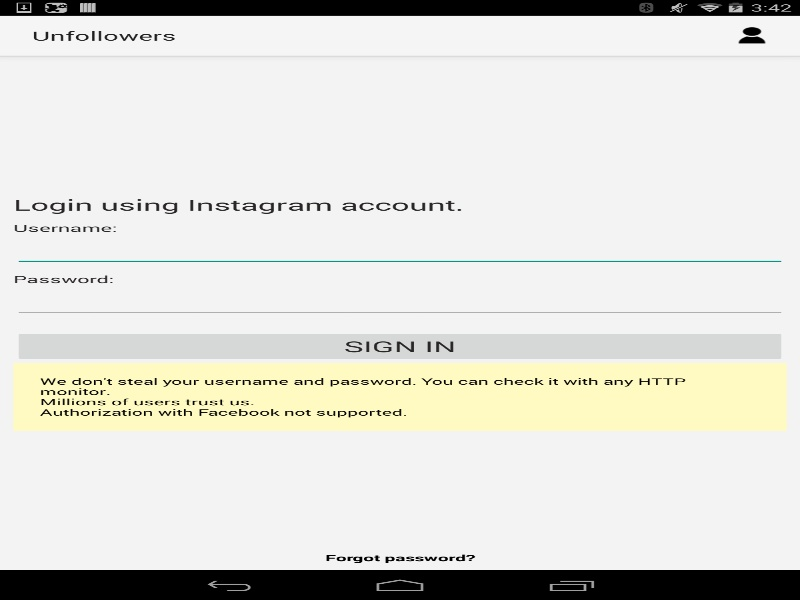Button: (13, 330, 786, 362)
Input: (13, 234, 786, 266), (13, 285, 786, 317)
